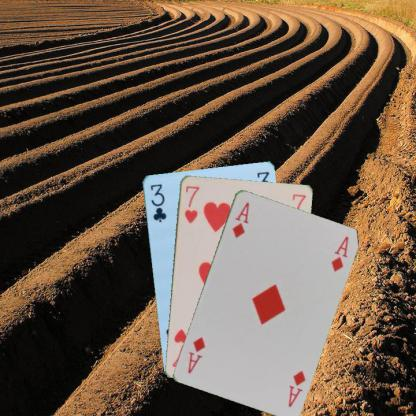3c: (147, 182, 168, 224)
7h: (182, 182, 200, 224)
Ad: (285, 367, 307, 408), (230, 198, 250, 238)
